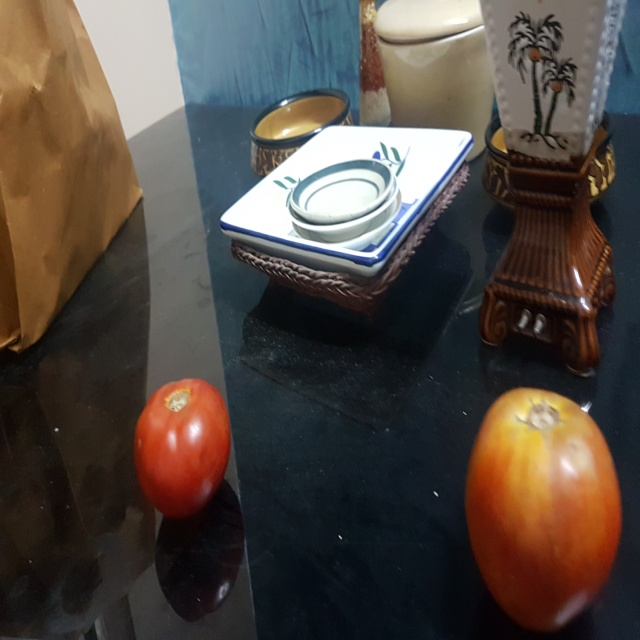tomato: (463, 388, 623, 631), (135, 375, 230, 519)
